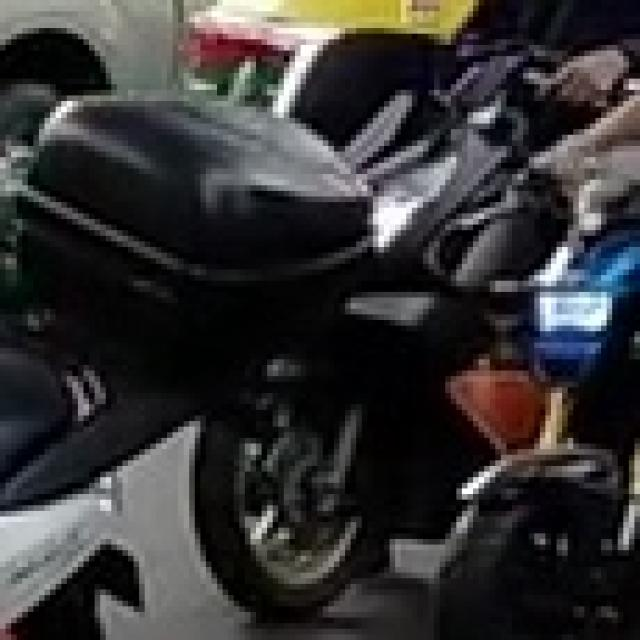tyre: (189, 404, 384, 612)
